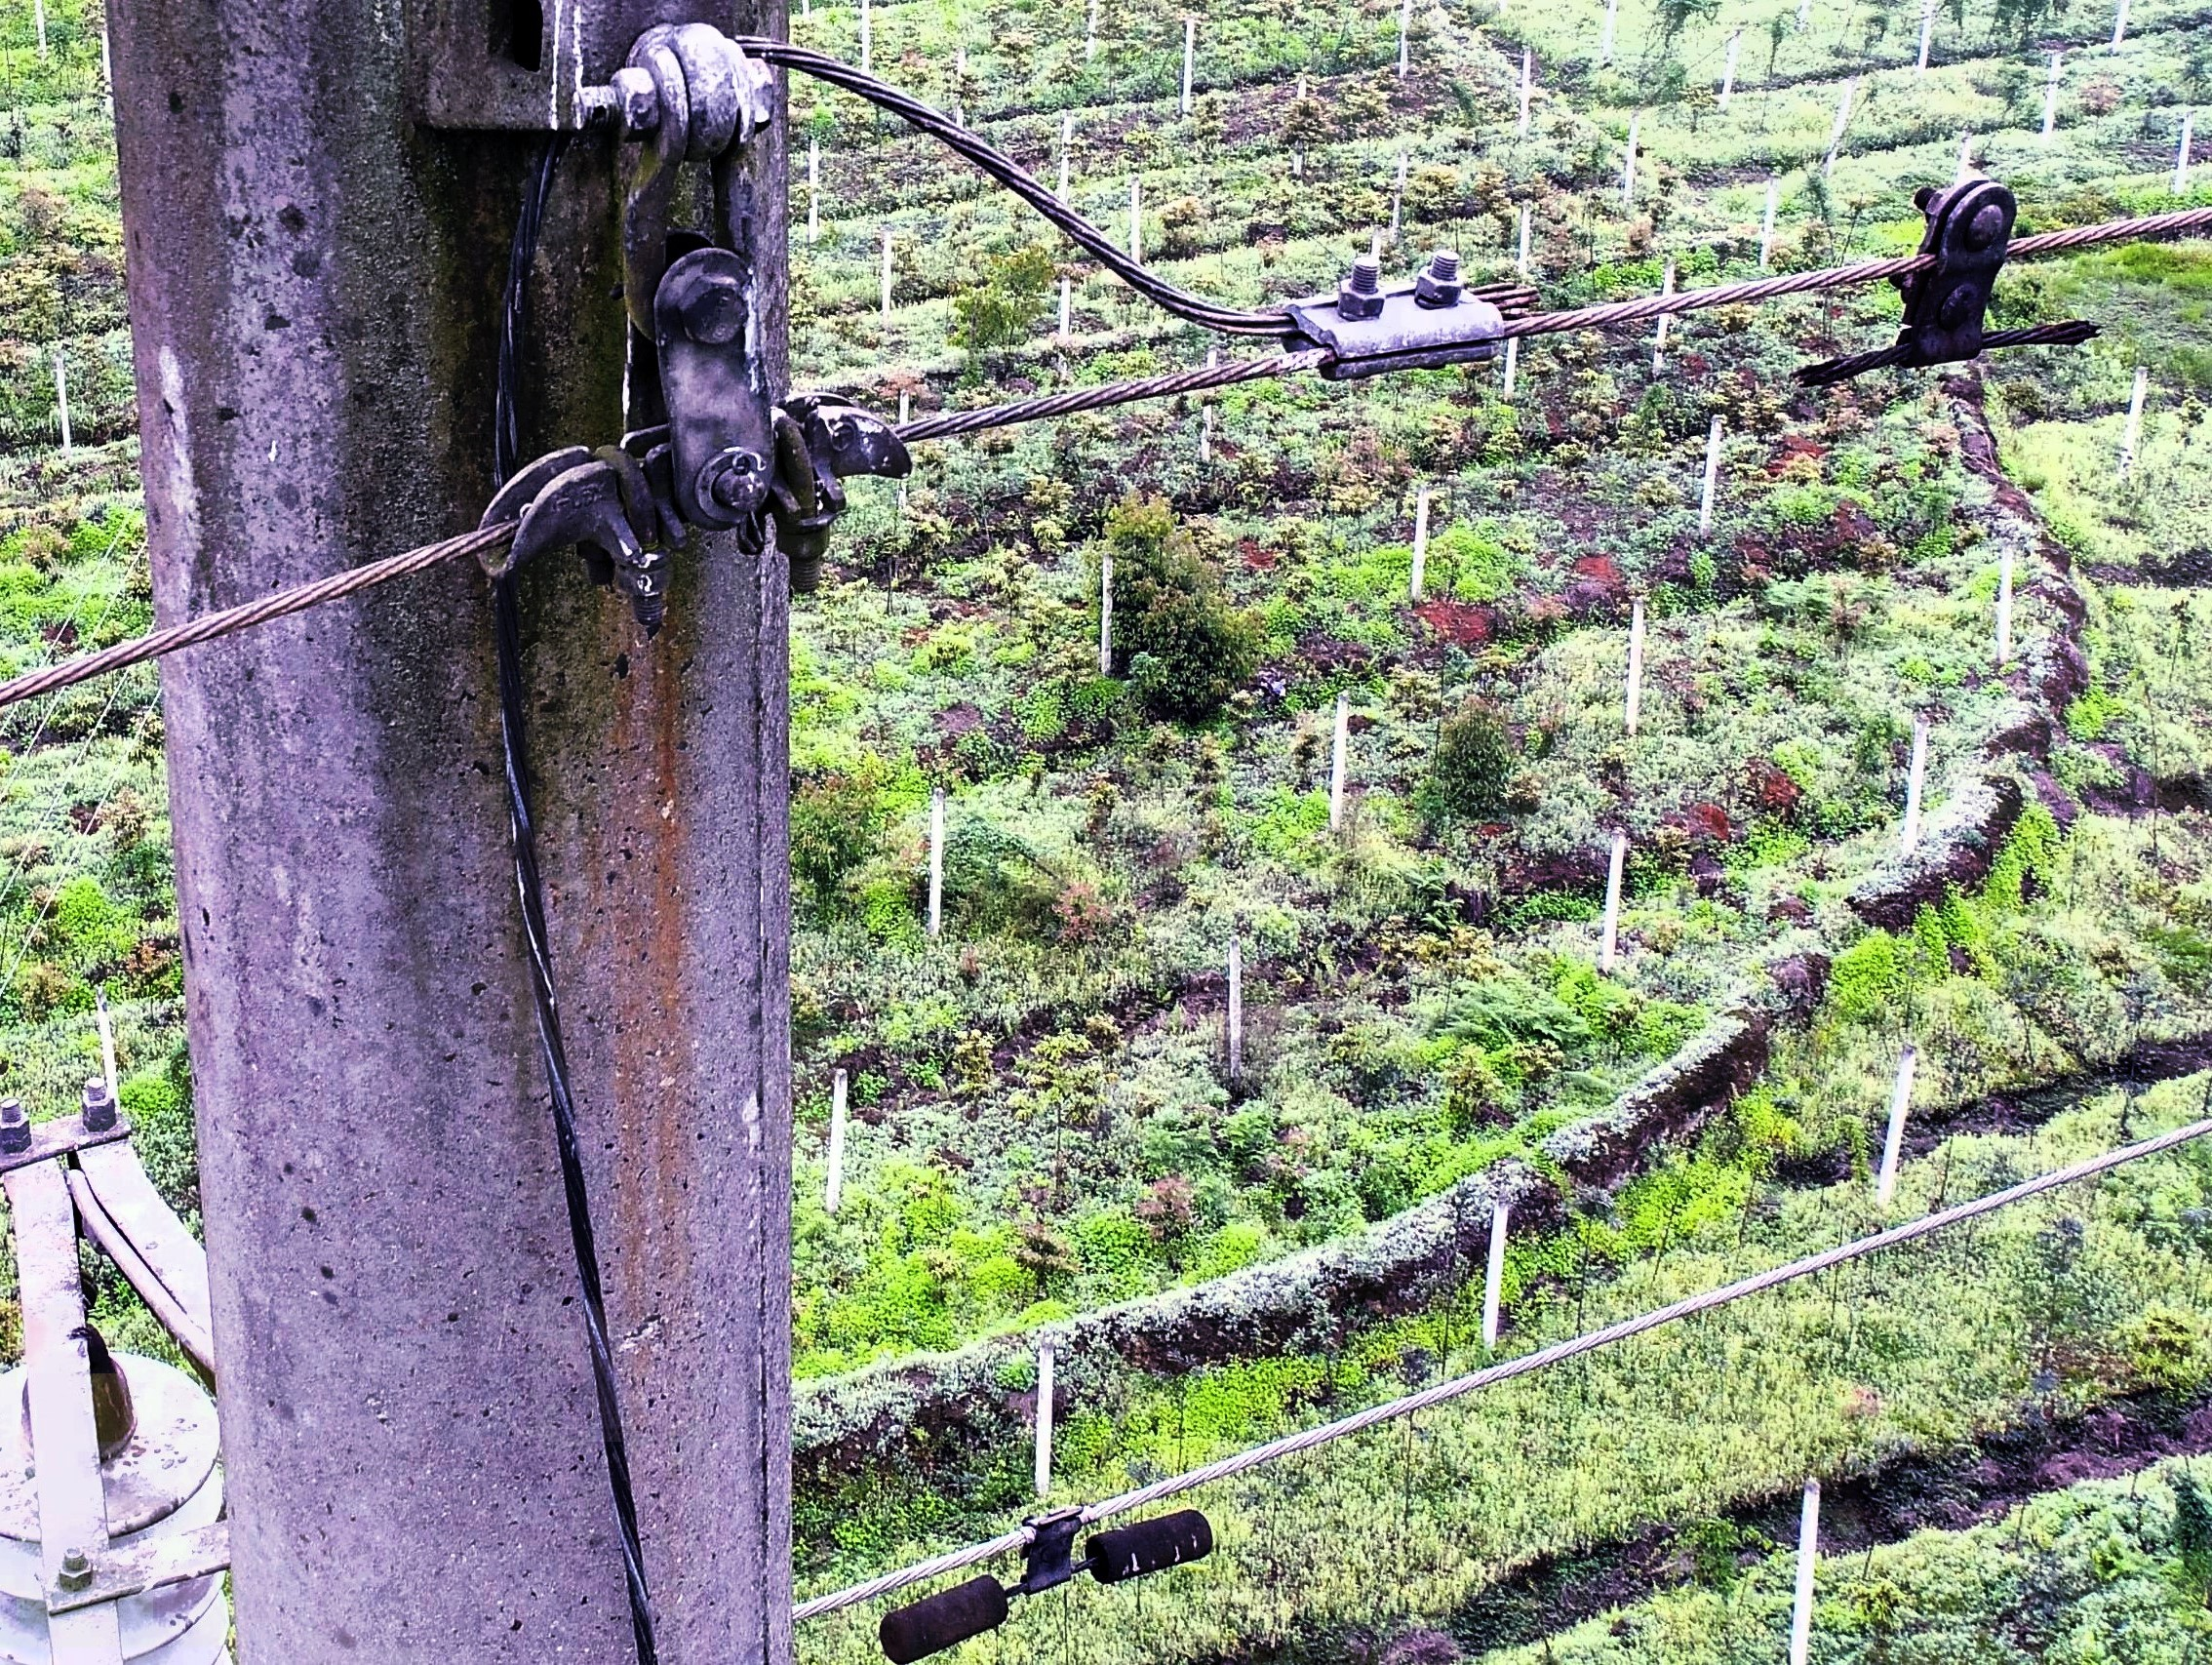Damage of shockproof hammer: (1768, 154, 2146, 427)
